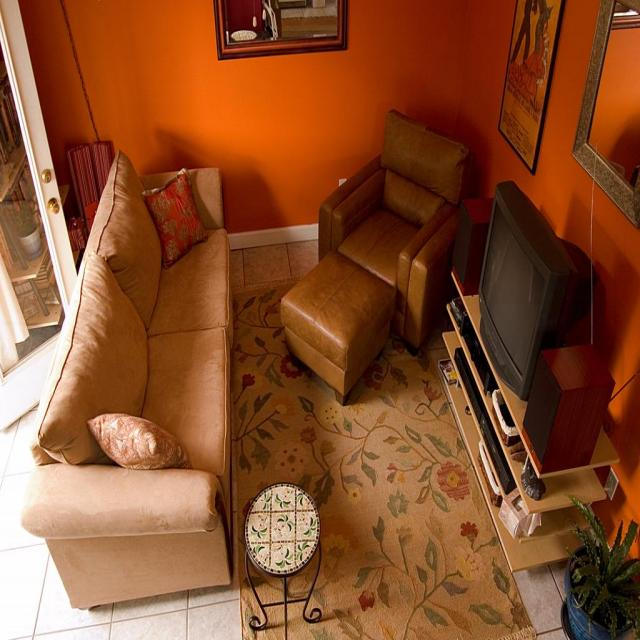table: (438, 292, 622, 574), (282, 251, 397, 404)
